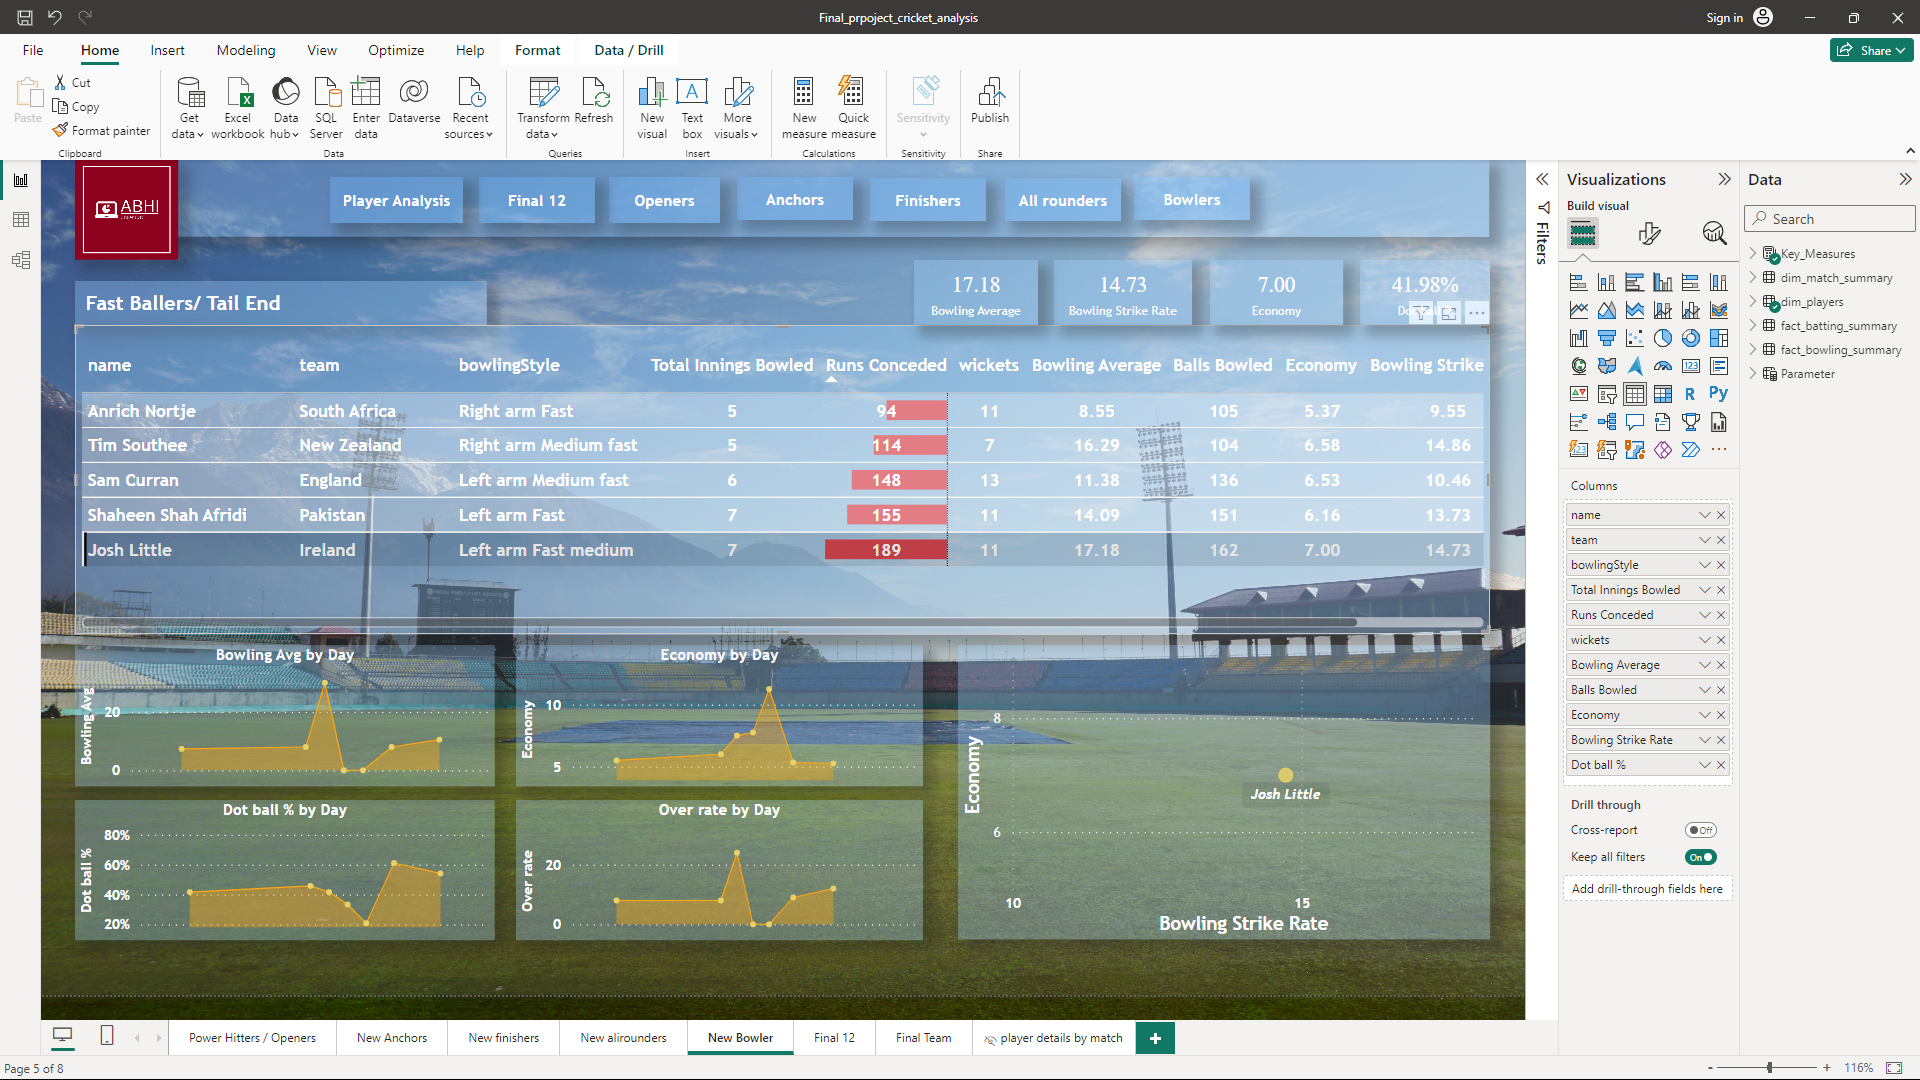

The page's visual inventory and layout, read from the dashboard file:
{"tool":"powerbi","page":{"name":"New Bowler","canvas":[1280,720],"ordinal":7},"visuals":[{"type":"shape","box":[29.3,0,1220.5,66.4],"z":0},{"type":"shape","box":[29.3,104.4,355.4,38],"z":1000},{"type":"areaChart","fields":{"Category":["dim_match_summary.matchDate.Variation.Date Hierarchy.Day"],"Y":["Key_Measures.Bowling Average"]},"box":[29.3,418.3,362.3,121.6],"z":2000},{"type":"areaChart","fields":{"Category":["dim_match_summary.matchDate.Variation.Date Hierarchy.Day"],"Y":["Key_Measures.Economy"]},"box":[409.7,418.3,351.1,121.6],"z":3000},{"type":"areaChart","fields":{"Category":["dim_match_summary.matchDate.Variation.Date Hierarchy.Day"],"Y":["Key_Measures.Dot ball %"]},"box":[29.3,552,362.3,120.8],"z":4000},{"type":"areaChart","fields":{"Category":["dim_match_summary.matchDate.Variation.Date Hierarchy.Day"],"Y":["Key_Measures.Bowling Strike Rate"]},"box":[409.7,552,351.1,120.8],"z":5000},{"type":"image","box":[29.3,0,88.8,86.3],"z":6000},{"type":"actionButton","box":[715,15.5,100.1,37.1],"z":7000},{"type":"actionButton","box":[831.5,15.5,100.1,37.1],"z":8000},{"type":"actionButton","box":[942.7,14.7,100.1,37.1],"z":9000},{"type":"actionButton","box":[600.3,14.7,100.1,37.1],"z":10000},{"type":"actionButton","box":[489.9,14.7,95.7,39.7],"z":11000},{"type":"actionButton","box":[377.8,14.7,100.1,39.7],"z":12000},{"type":"actionButton","box":[249.3,14.7,114.7,39.7],"z":13000},{"type":"tableEx","fields":{"Values":["dim_player.name","dim_player.team","dim_player.Bowling Style","Key_Measures.Total Innings Bowled","Key_Measures.Runs Conceded","Key_Measures.wickets","Key_Measures.Bowling Average","Key_Measures.Balls Bowled","Key_Measures.Economy","Key_Measures.Bowling Strike Rate","Key_Measures.Dot ball %"]},"box":[29.3,142.3,1220.5,266.5],"z":19001},{"type":"card","fields":{"Values":["Key_Measures.Bowling Strike Rate"]},"box":[873.7,86.3,119,56.1],"z":19002},{"type":"card","fields":{"Values":["Key_Measures.Economy"]},"box":[1008.3,86.3,114.7,56.1],"z":19003},{"type":"card","fields":{"Values":["Key_Measures.Bowling Average"]},"box":[753,86.3,107,56.1],"z":19004},{"type":"card","fields":{"Values":["Key_Measures.Dot ball %"]},"box":[1137.7,86.3,112.1,56.1],"z":19005},{"type":"scatterChart","fields":{"Category":["dim_player.name"],"X":["Key_Measures.Bowling Strike Rate"],"Series":["dim_player.name"],"Y":["Key_Measures.Economy"]},"box":[790.9,418.3,458.9,254.4],"z":19006}]}

Visuals, with their boxes on the page's 1280x720 design canvas (x1, y1, x2, y2). These are canvas units, not pixel positions in the 1920x1080 screenshot, which may show the page scaled, cropped or inside an application window:
shape: select_region(29, 0, 1250, 66)
shape: select_region(29, 104, 385, 142)
areaChart - dim_match_summary.matchDate.Variation.Date Hierarchy.Day x Key_Measures.Bowling Average: select_region(29, 418, 392, 540)
areaChart - dim_match_summary.matchDate.Variation.Date Hierarchy.Day x Key_Measures.Economy: select_region(410, 418, 761, 540)
areaChart - dim_match_summary.matchDate.Variation.Date Hierarchy.Day x Key_Measures.Dot ball %: select_region(29, 552, 392, 673)
areaChart - dim_match_summary.matchDate.Variation.Date Hierarchy.Day x Key_Measures.Bowling Strike Rate: select_region(410, 552, 761, 673)
image: select_region(29, 0, 118, 86)
actionButton: select_region(715, 16, 815, 53)
actionButton: select_region(832, 16, 932, 53)
actionButton: select_region(943, 15, 1043, 52)
actionButton: select_region(600, 15, 700, 52)
actionButton: select_region(490, 15, 586, 54)
actionButton: select_region(378, 15, 478, 54)
actionButton: select_region(249, 15, 364, 54)
tableEx - dim_player.name x dim_player.team: select_region(29, 142, 1250, 409)
card - Key_Measures.Bowling Strike Rate: select_region(874, 86, 993, 142)
card - Key_Measures.Economy: select_region(1008, 86, 1123, 142)
card - Key_Measures.Bowling Average: select_region(753, 86, 860, 142)
card - Key_Measures.Dot ball %: select_region(1138, 86, 1250, 142)
scatterChart - dim_player.name x Key_Measures.Bowling Strike Rate: select_region(791, 418, 1250, 673)
